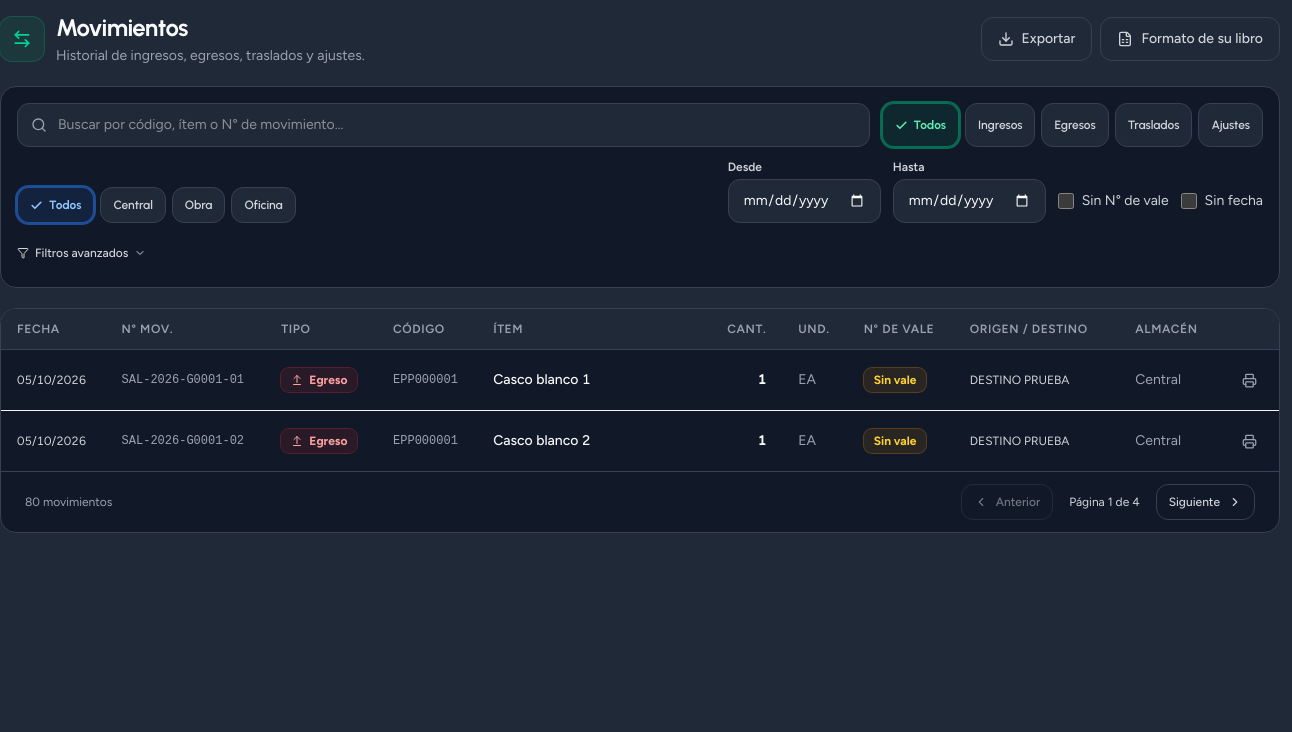
MovimientosPage — paginación › cualquier filtro vuelve a la página 1
The width and height of the screenshot is (1292, 732).
Expected: the table is shown, [1, 309, 1279, 471]
Click the button "Siguiente" at (1205, 502), box [1156, 484, 1255, 520]
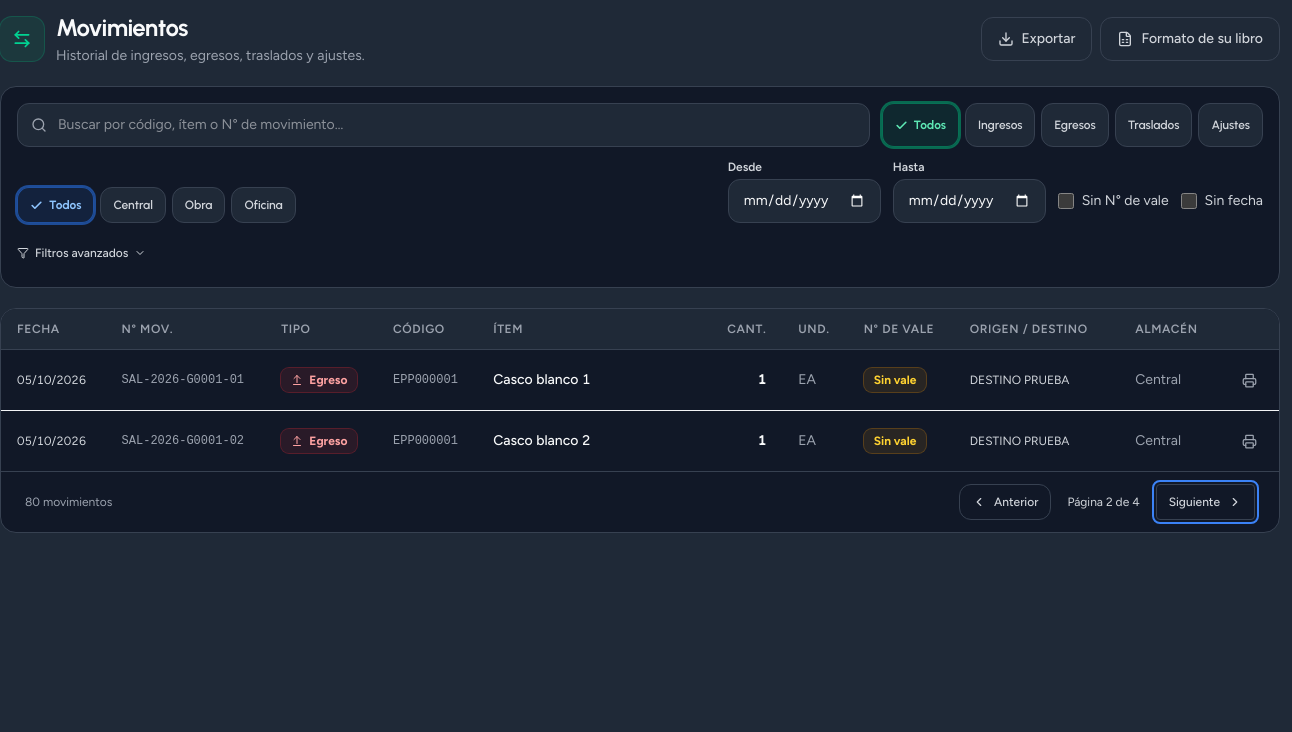
Expected: the text "Página 2 de 4" is shown, [1067, 495, 1140, 509]
Type "a" into the search field named "buscar movimientos" at (443, 125), box [17, 103, 870, 147]
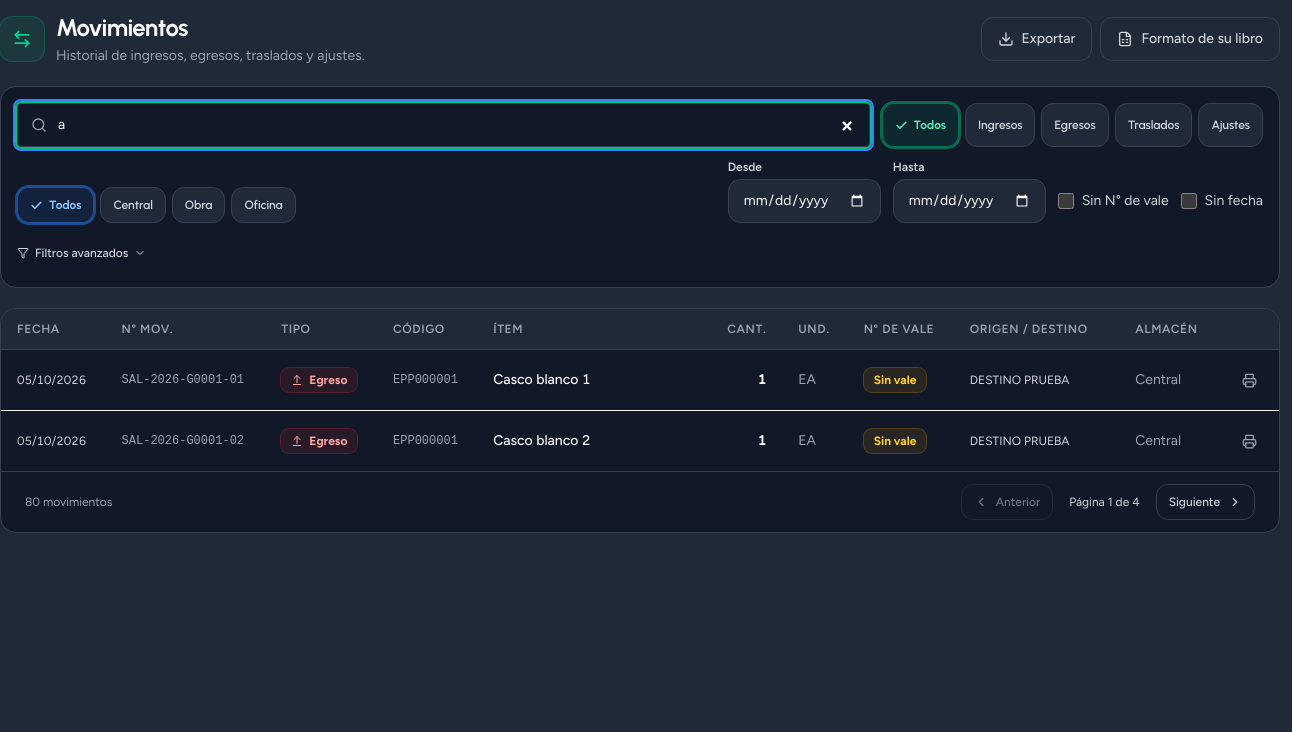
Expected: the text "Página 1 de 4" is shown, [1069, 495, 1140, 509]
